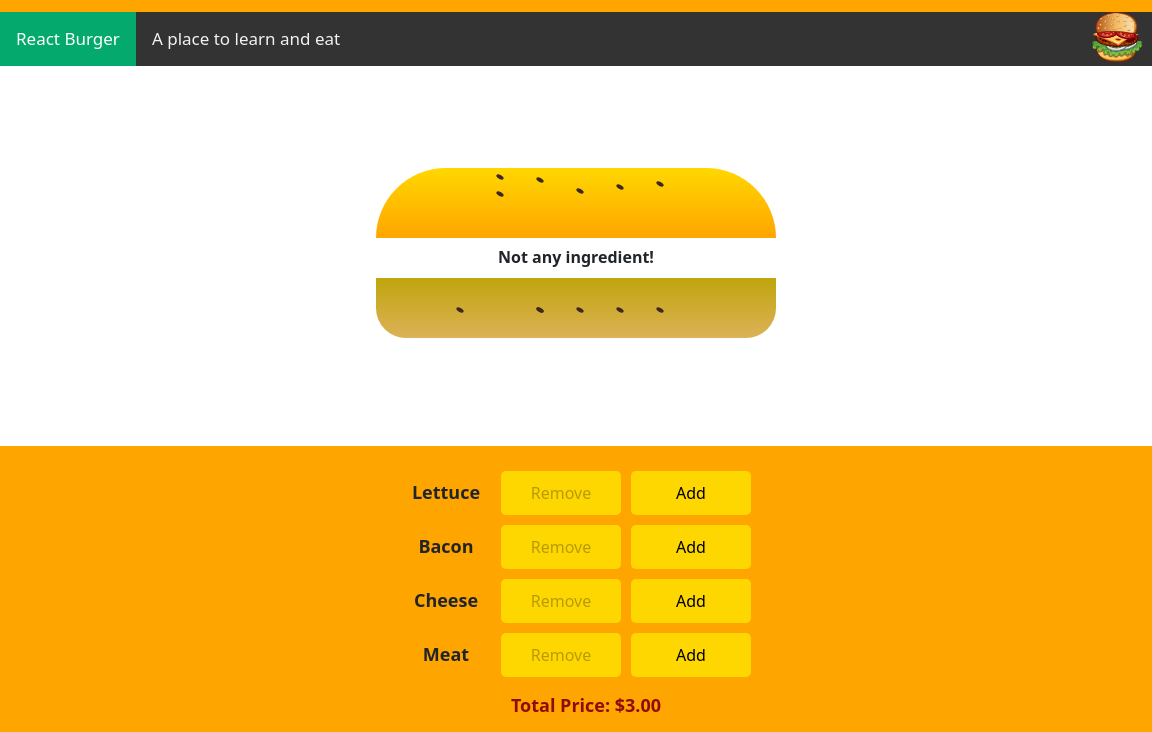
Test case: adds and removes ingredients with correct prices
The width and height of the screenshot is (1152, 732).
Expected: the button with aria-label "Remove lettuce" is disabled, x1=501 y1=470 x2=621 y2=514
Step 1. Click the button with aria-label "Add lettuce" → (691, 492), box x1=631 y1=470 x2=751 y2=514
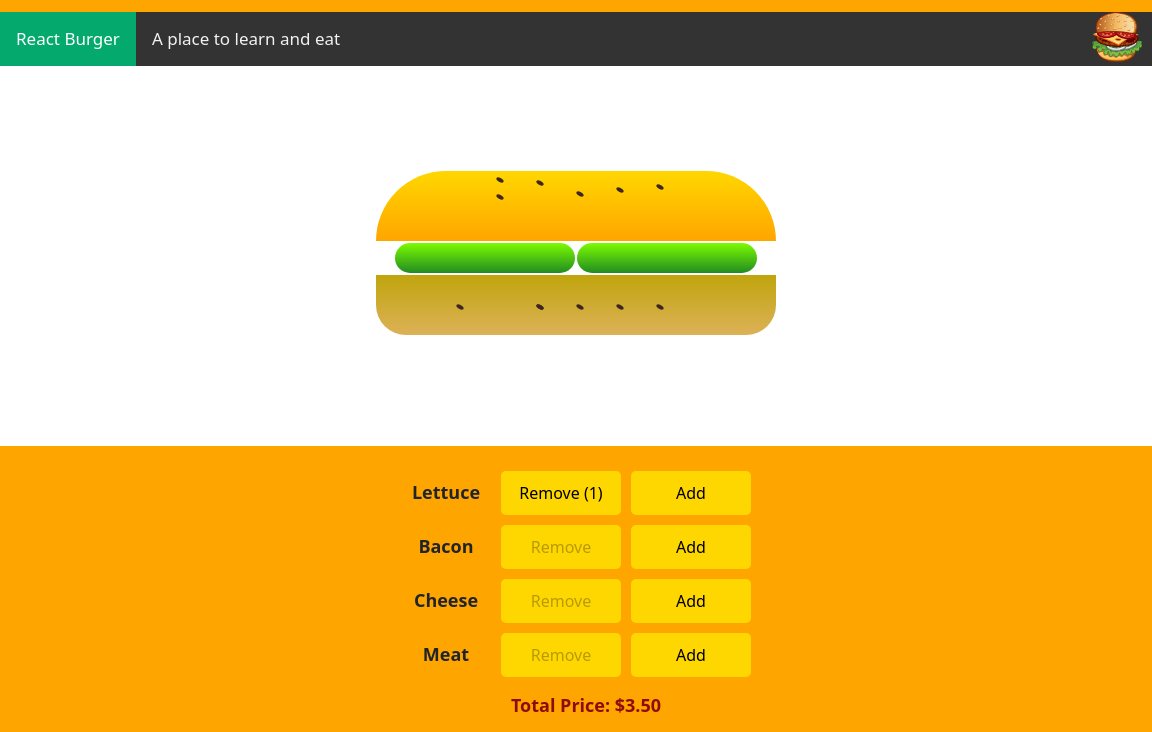
Now the text "Total Price: $3.50" is shown, box x1=511 y1=692 x2=661 y2=718
Step 2. Click the button with aria-label "Remove lettuce" → (561, 492), box x1=501 y1=470 x2=621 y2=514
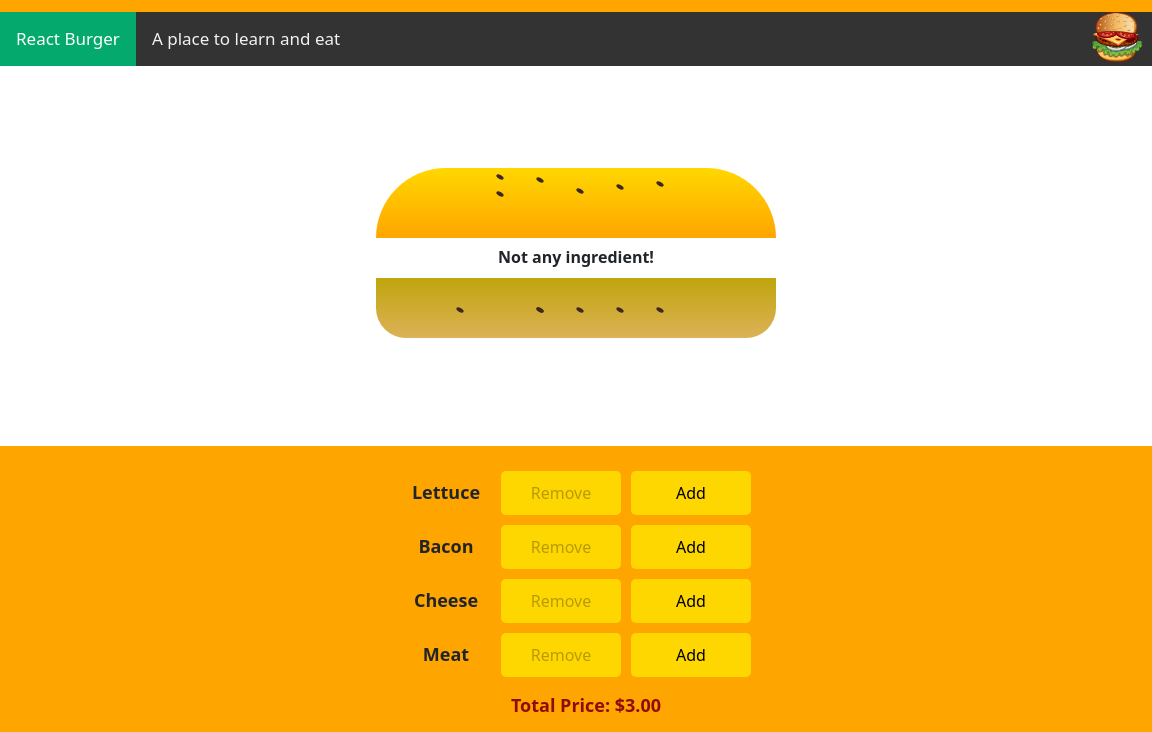
Now the text "Total Price: $3.00" is shown, box x1=511 y1=692 x2=661 y2=718
